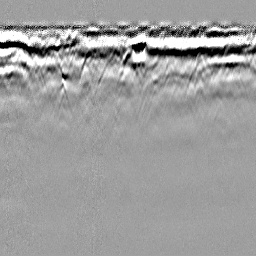cavity: (121, 44, 137, 69)
